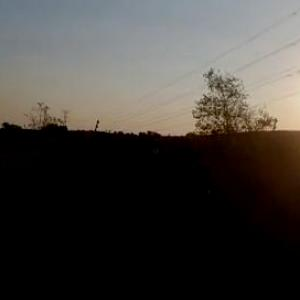follow: (164, 157, 225, 299)
